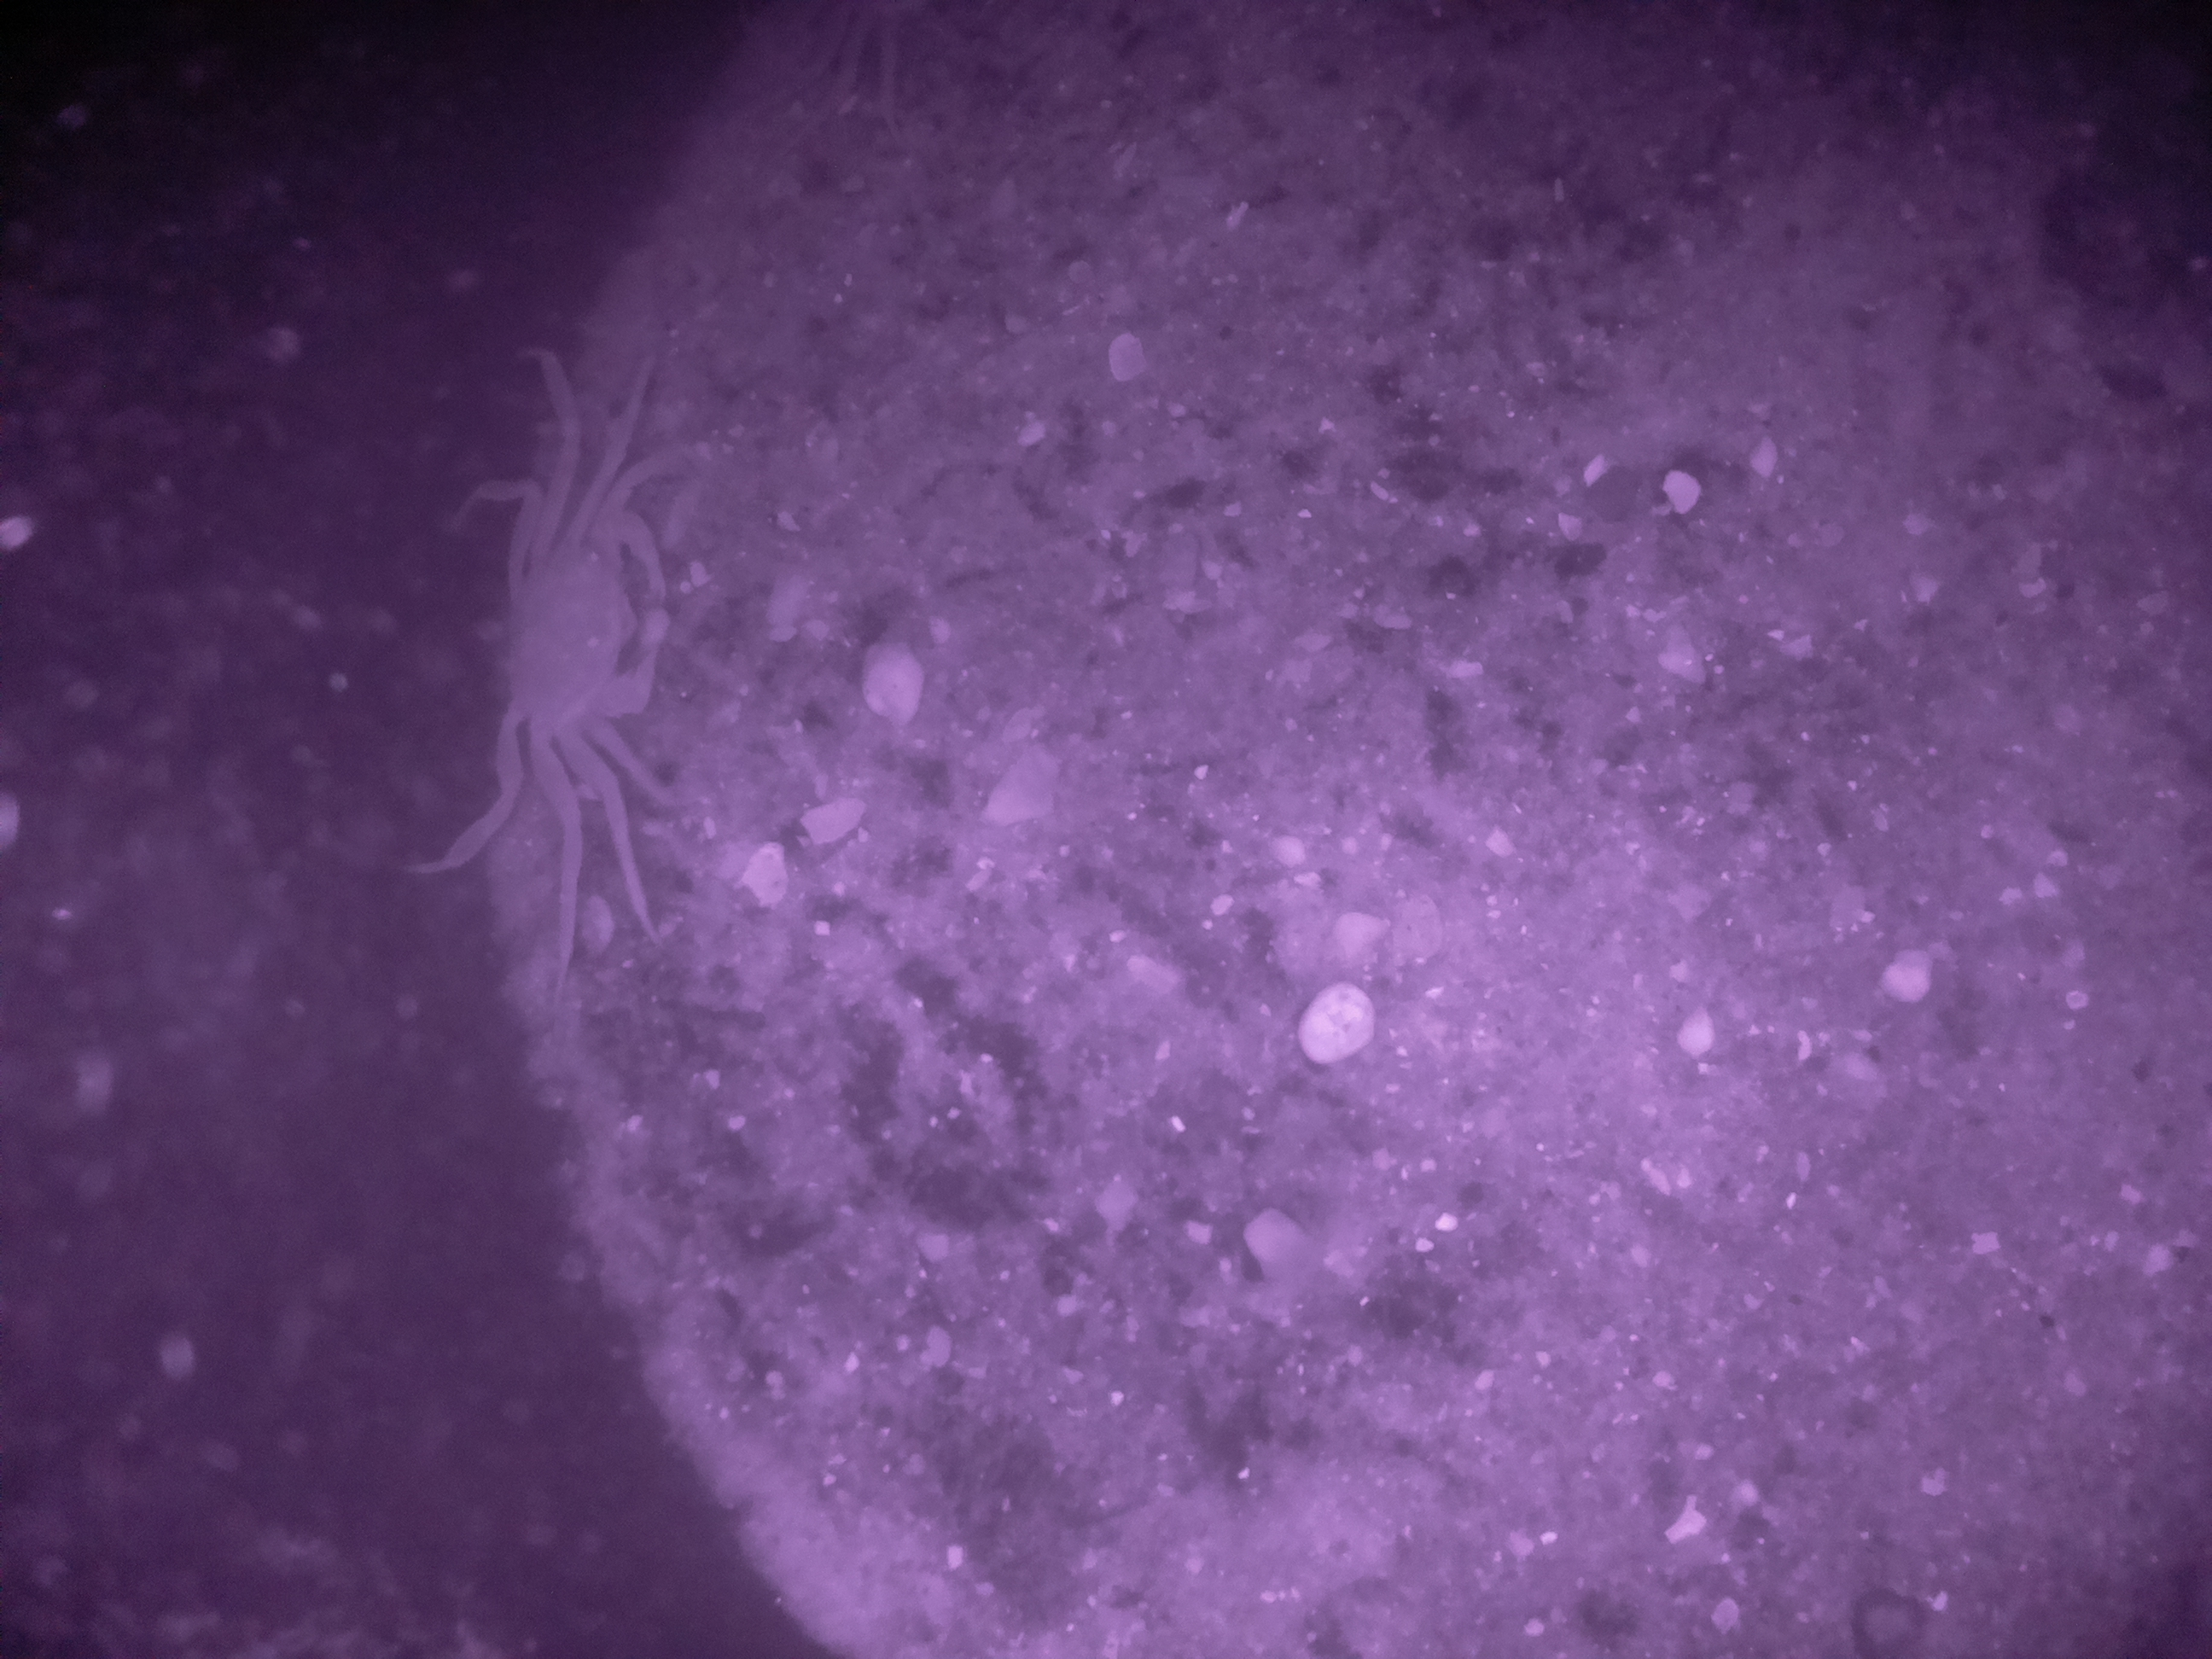Crab: (397, 408, 738, 871)
